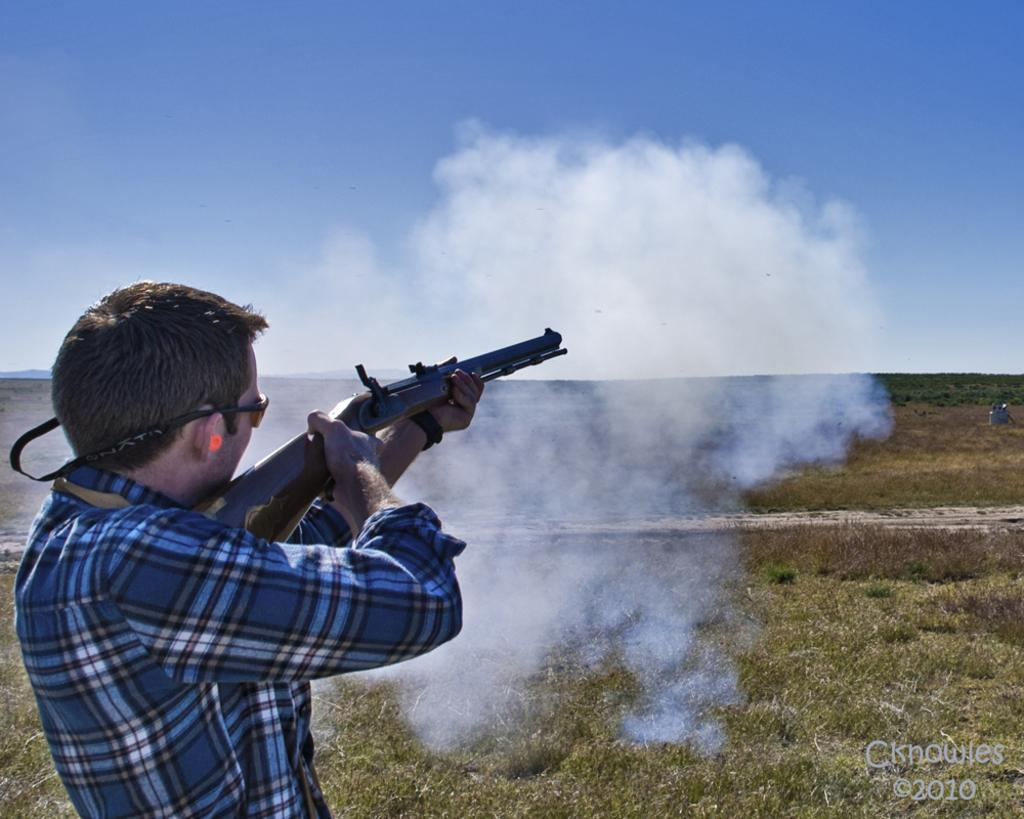Rifle: (191, 327, 567, 543)
